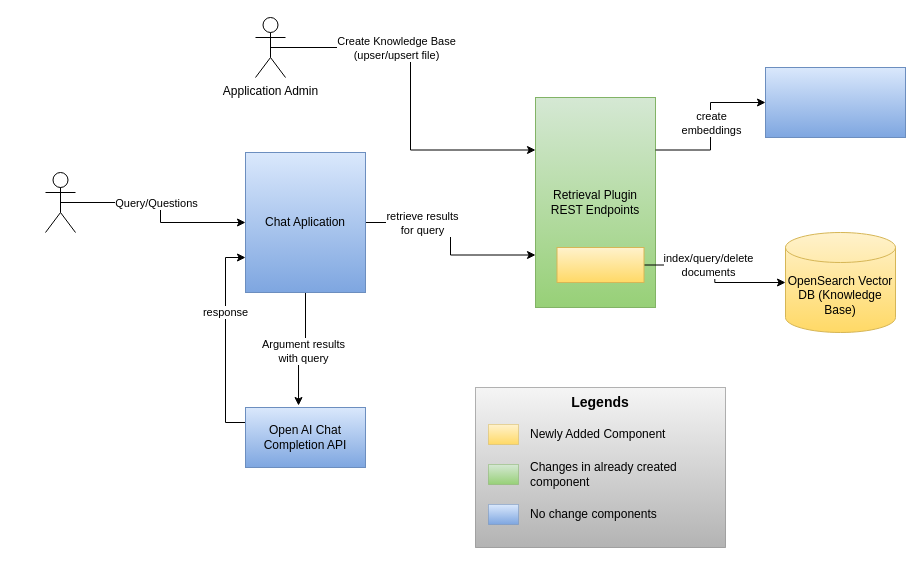
Image size: 923x565. Some labels were removed from this diagram. Here are the shapes that lost their labels. From the top down, the centre of each, then its label:
At point (835, 102): "OpenAI Embedding Model (text-embedding-ada-002 )".
At point (60, 202): "Application User".
At point (600, 264): "OpenSearch DB connector".
